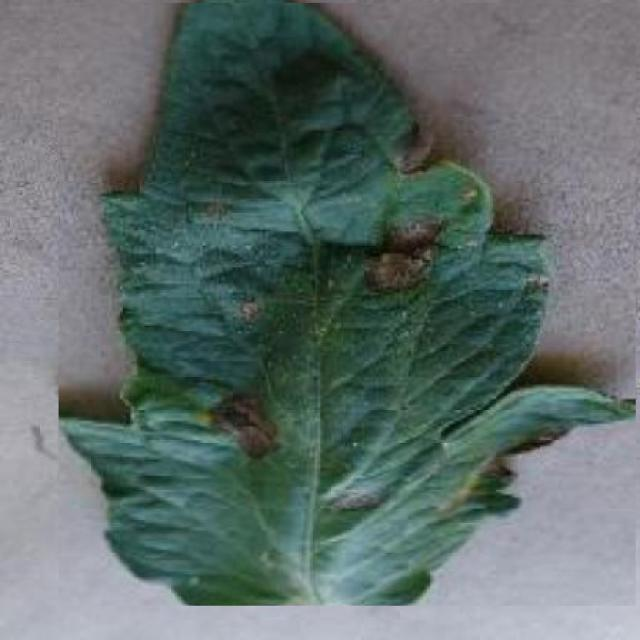Early Blight: (59, 3, 636, 606)
